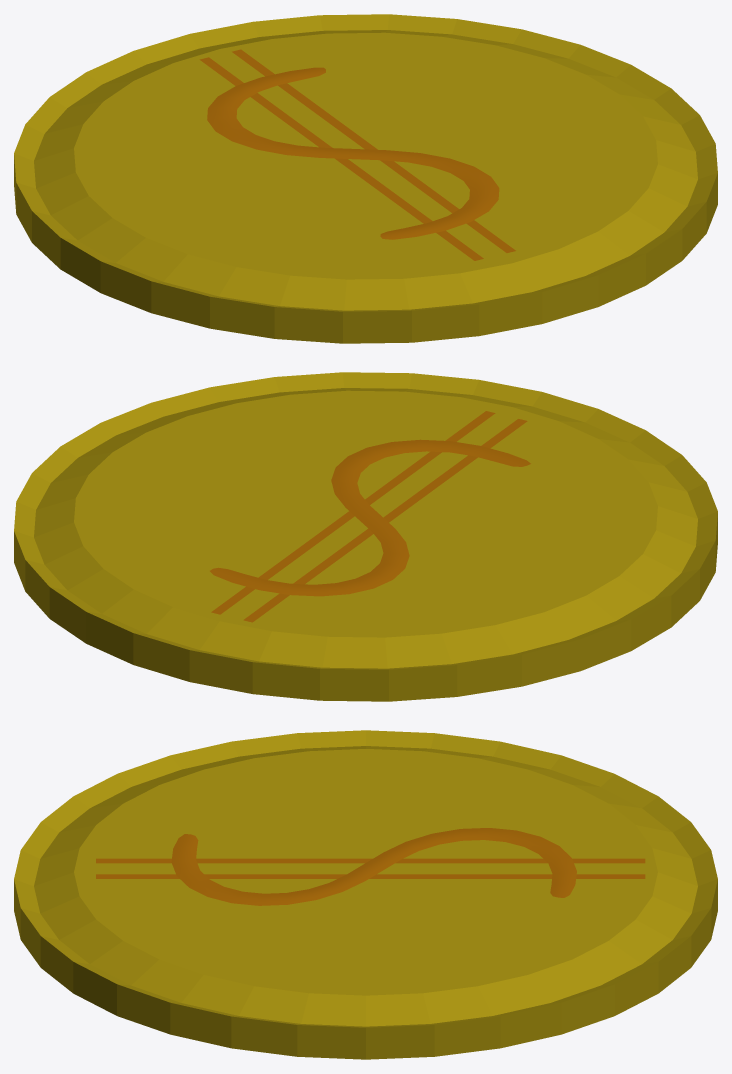
Rendered from Coin.fbx.
3 renders of one model, top to bottom at view 1: azimuth 30°, elevation 25°; view 2: azimuth 150°, elevation 25°; view 3: azimuth 270°, elevation 25°, orthographic.
Parts seen in each view (by area): view 1: Cylinder, Torus.002, Plane, Plane.001; view 2: Cylinder, Torus.002, Plane, Plane.001; view 3: Cylinder, Torus.002, Plane, Plane.001.
Boxes of the visible parts, x1,y1,x2,y2 form: Cylinder: (14,14,717,343); Torus.002: (207,67,499,239); Plane: (199,57,483,260); Plane.001: (232,49,515,252); Cylinder: (14,372,717,701); Torus.002: (210,439,530,596); Plane: (243,419,527,622); Plane.001: (211,411,495,614); Cylinder: (14,730,717,1059); Torus.002: (171,828,576,905); Plane: (96,858,645,863); Plane.001: (96,874,645,878).
Size of the model in its own units: 200 by 15.68 by 200.
